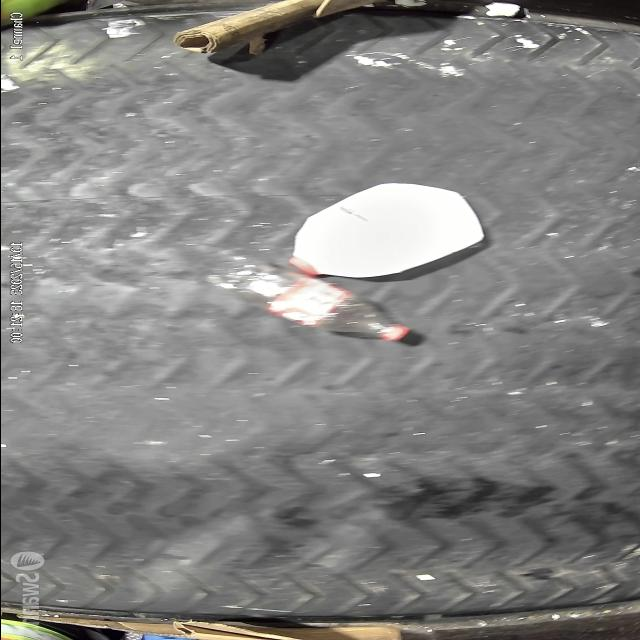milk_jug: (287, 182, 483, 278)
plastic_bottle: (216, 264, 410, 342)
